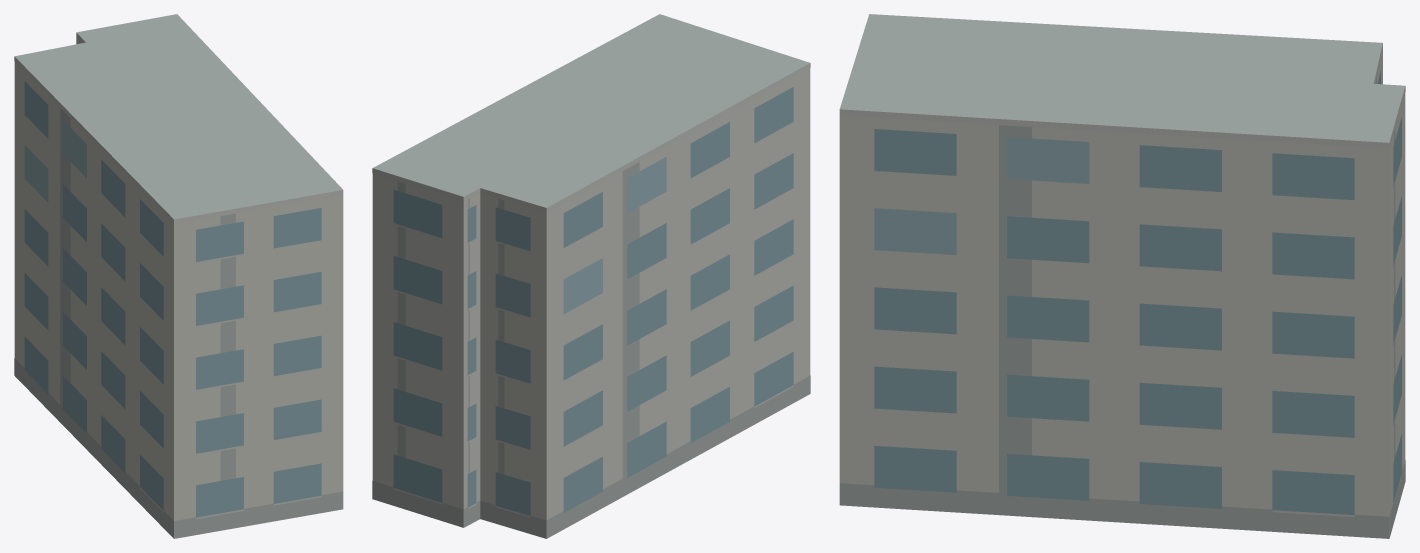
The model's file is survey-upis-32567002.glb.
The picture shows the model from 3 angles, left to right: view 1: azimuth 30°, elevation 25°; view 2: azimuth 150°, elevation 25°; view 3: azimuth 270°, elevation 25°; orthographic projection. The views are drawn at different scales.
Parts seen in each view (by area): view 1: survey-upis-32567002.tmp; view 2: survey-upis-32567002.tmp; view 3: survey-upis-32567002.tmp.
Part boxes in pixels (x1,y1,x2,y2): survey-upis-32567002.tmp: (14,14,343,538); survey-upis-32567002.tmp: (372,14,810,538); survey-upis-32567002.tmp: (839,14,1405,538).
Size of the model in its own units: 11.01 by 15.77 by 20.43.
